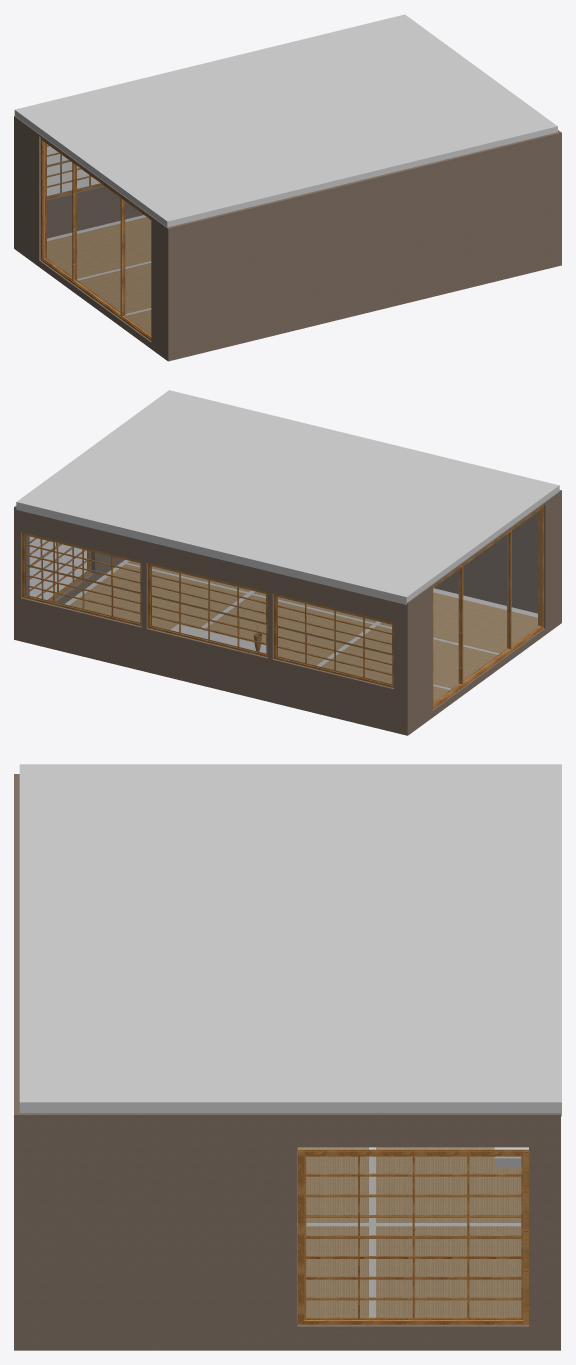
3 views of the same model, one above another, from view 1: azimuth 30°, elevation 25°; view 2: azimuth 150°, elevation 25°; view 3: azimuth 270°, elevation 25° (orthographic). The views are drawn at different scales.
Visible parts, largest first — view 1: Box018, Box019, ProjectedWindow001, Box007, Box010, SlidingWindow004; view 2: Box019, Box018, ProjectedWindow001, SlidingWindow003, SlidingWindow002, SlidingWindow004, Box008, Box009, Box013, Box010, SlidingWindow001, Box005 (+2 smaller); view 3: Box019, Box018, SlidingWindow001, Box005, Box006, Box008, Box009.
Boxes of the visible parts, x1,y1,x2,y2 form: Box018: (14,116,561,361); Box019: (14,14,557,227); ProjectedWindow001: (41,138,151,340); Box007: (47,217,151,278); Box010: (78,263,151,313); SlidingWindow004: (47,144,103,199); Box019: (16,390,559,604); Box018: (14,490,561,735); ProjectedWindow001: (432,506,543,709); SlidingWindow003: (148,563,267,657); SlidingWindow002: (22,532,141,626); SlidingWindow004: (274,594,393,687); Box008: (80,564,246,627); Box009: (206,595,372,657); Box013: (380,592,537,653); Box010: (332,625,497,688); SlidingWindow001: (29,537,91,600); Box005: (69,599,197,629); Box019: (19,764,561,1116); Box018: (14,774,560,1350); SlidingWindow001: (298,1149,529,1324); Box005: (376,1226,521,1317); Box006: (376,1147,521,1222); Box008: (297,1226,368,1320); Box009: (297,1147,368,1222).
Bounding box in the file's own units: 332 × 112 × 225.
Materials: 8 (5 with a texture image).
